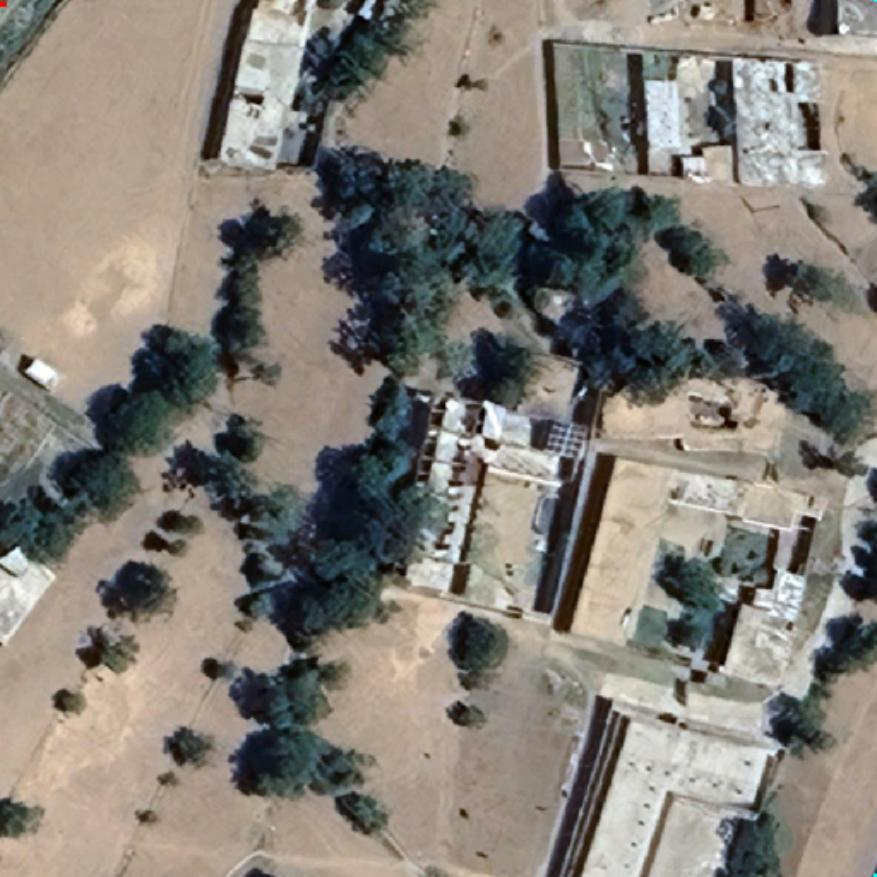Solarpanel: (542, 419, 588, 459)
